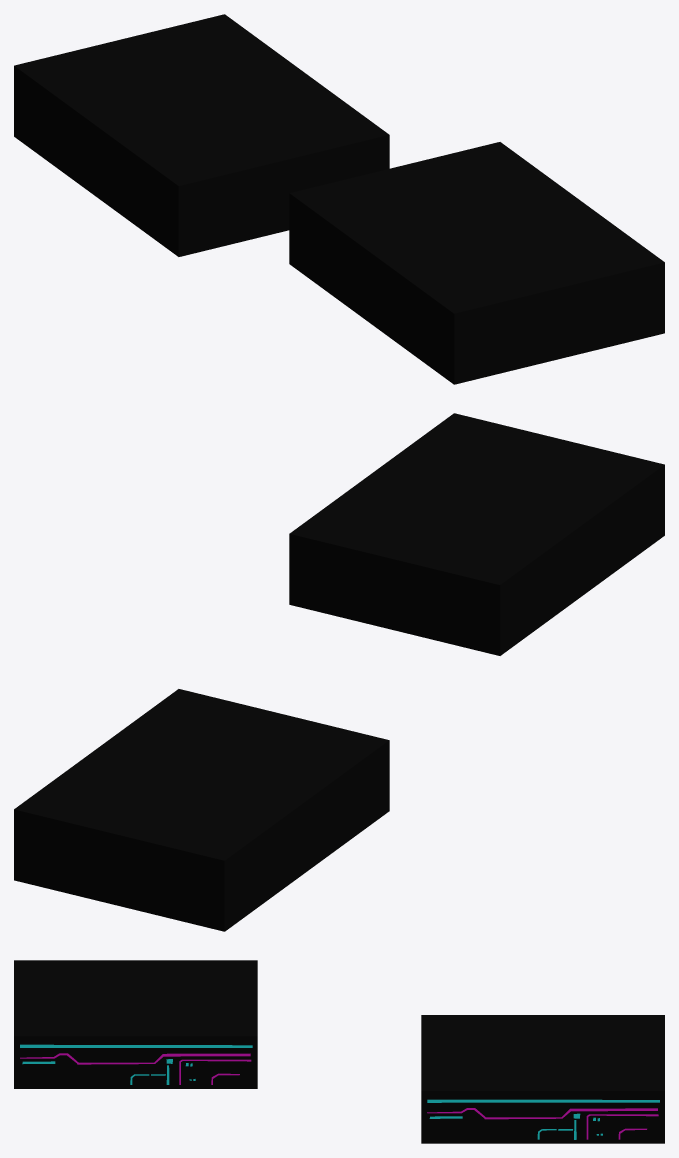
Rendered from neonyol6.fbx.
The picture shows the model from 3 angles, top to bottom: view 1: azimuth 30°, elevation 25°; view 2: azimuth 150°, elevation 25°; view 3: azimuth 270°, elevation 25°; orthographic projection. The views are drawn at different scales.
Parts seen in each view (by area): view 1: Cube.121; view 2: Cube.121; view 3: Cube.121.
Boxes of the visible parts, x1,y1,x2,y2 form: Cube.121: (14, 14, 664, 384); Cube.121: (14, 413, 664, 931); Cube.121: (14, 960, 664, 1143).
Size of the model in its own units: 193 by 127 by 699.
